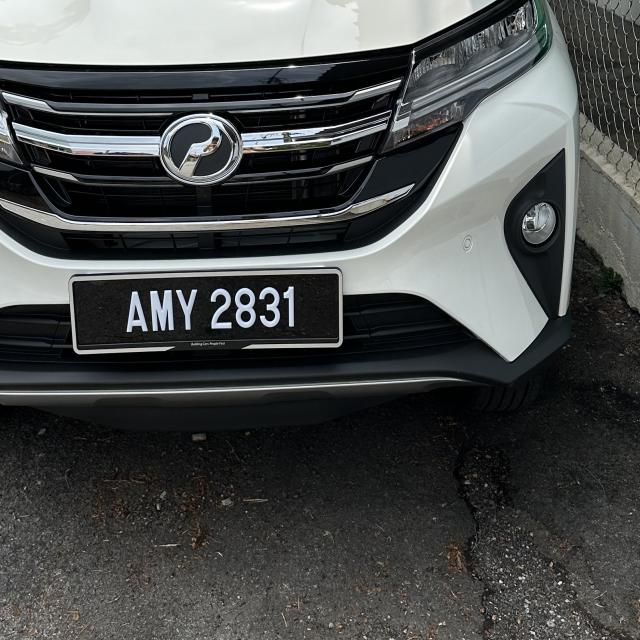car-plate: (57, 268, 350, 350)
